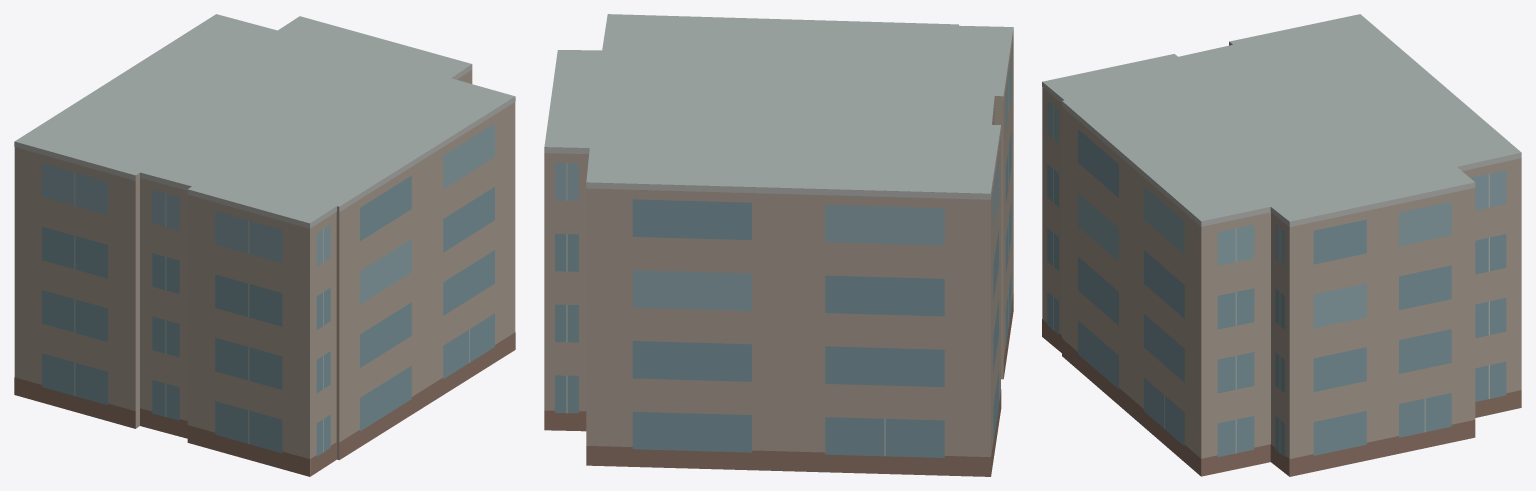
Rendered from survey-upis-32961138.glb.
The picture shows the model from 3 angles, left to right: view 1: azimuth 30°, elevation 25°; view 2: azimuth 150°, elevation 25°; view 3: azimuth 270°, elevation 25°; orthographic projection. The views are drawn at different scales.
Visible parts, largest first — view 1: survey-upis-32961138.tmp; view 2: survey-upis-32961138.tmp; view 3: survey-upis-32961138.tmp.
Part boxes in pixels (<box>): survey-upis-32961138.tmp: <box>14,14,515,476</box>; survey-upis-32961138.tmp: <box>544,14,1013,476</box>; survey-upis-32961138.tmp: <box>1042,14,1521,476</box>.
Bounding box in the file's own units: 19.91 × 11.4 × 19.42.
